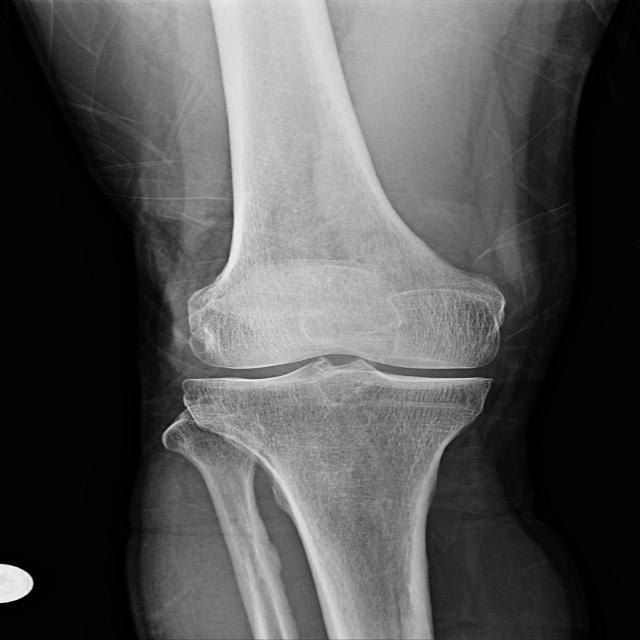osteo: (166, 274, 507, 434)
